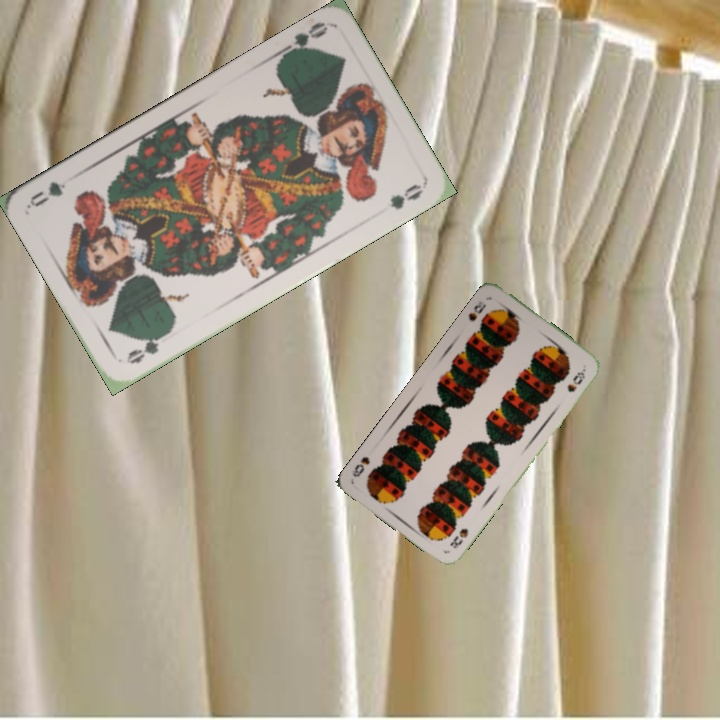GO: (275, 17, 330, 61), (122, 328, 172, 367)
S8: (446, 524, 471, 551), (464, 300, 489, 324)
